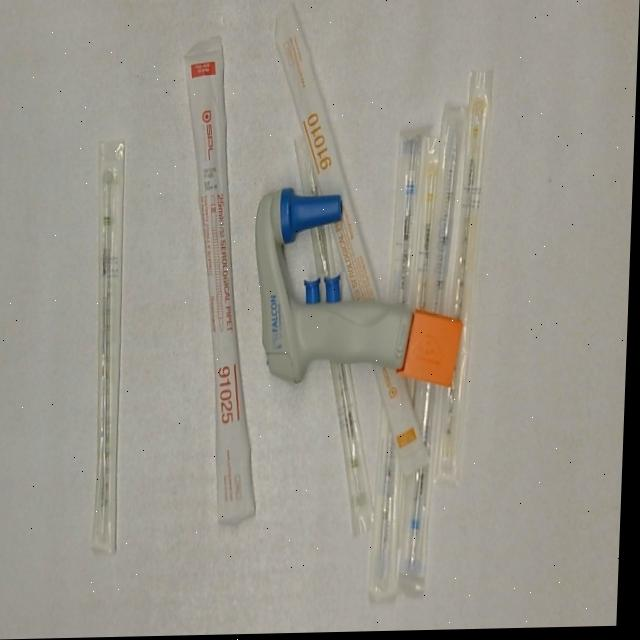Pipette Controller: (249, 181, 472, 398)
Serelogical Pipet 1 mL - Sealed: (440, 70, 499, 488), (417, 133, 444, 318)
Serelogical Pipet 10 mL - Sealed: (259, 1, 448, 479)
Serelogical Pipet 2 mL - Sealed: (281, 134, 393, 538), (85, 131, 134, 562)
Serelogical Pipet 25 mL - Sealed: (169, 34, 277, 538)
Serelogical Pipet 5 mL - Sealed: (402, 103, 473, 588), (371, 131, 426, 603)
